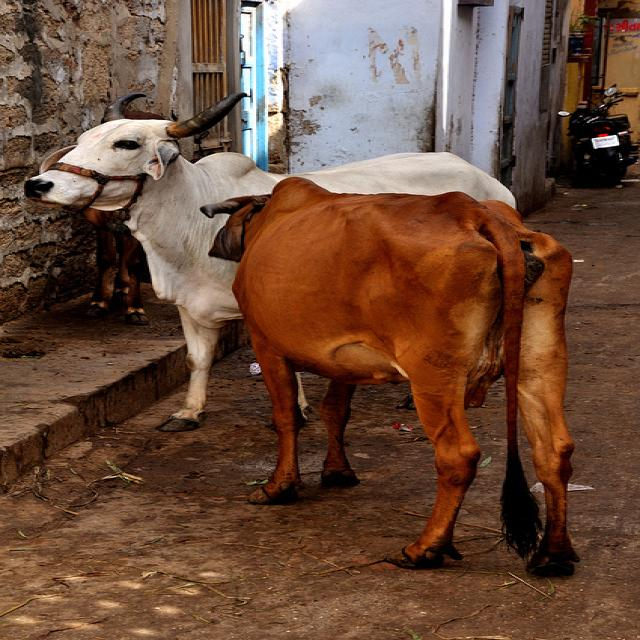motor: (558, 81, 640, 192)
